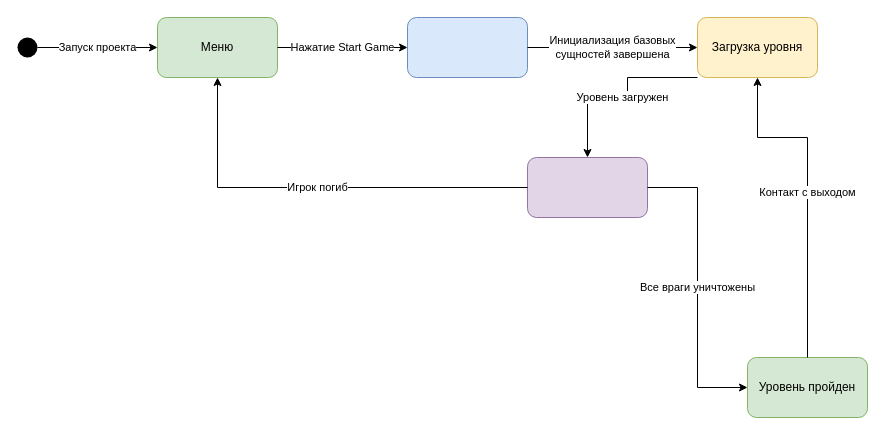
Image size: 885x435. Some labels were removed from this diagram. The centre of each missing label's shape, as x and y in pixels:
"Игра запущена" belongs at (x=467, y=47).
"Игра на уровне" belongs at (x=587, y=187).
